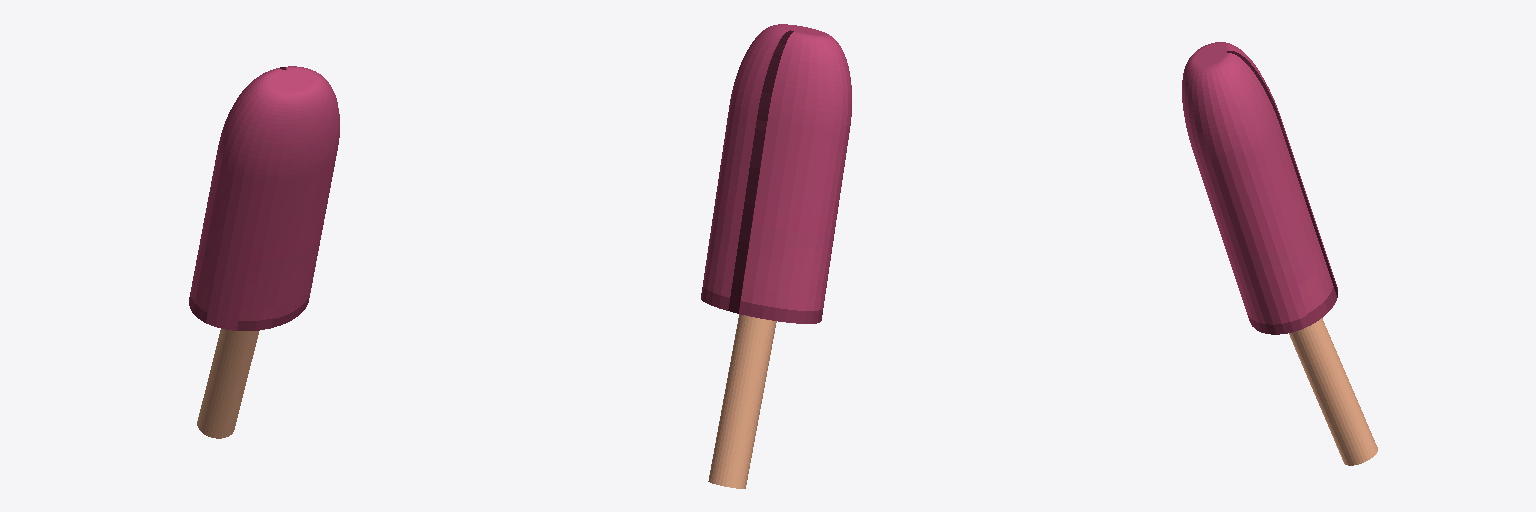
3 views of the same model, side by side, from view 1: azimuth 30°, elevation 25°; view 2: azimuth 150°, elevation 25°; view 3: azimuth 270°, elevation 25° (orthographic).
Parts seen in each view (by area): view 1: brazo_sup_izq:Mesh; view 2: brazo_sup_izq:Mesh; view 3: brazo_sup_izq:Mesh.
Part boxes in pixels (bbox=[...]): brazo_sup_izq:Mesh: bbox=[189, 66, 339, 438]; brazo_sup_izq:Mesh: bbox=[701, 24, 851, 488]; brazo_sup_izq:Mesh: bbox=[1182, 42, 1377, 465].
Bounding box in the file's own units: 0.0771 × 0.2695 × 0.1167.
Materials: 1 (1 with a texture image).